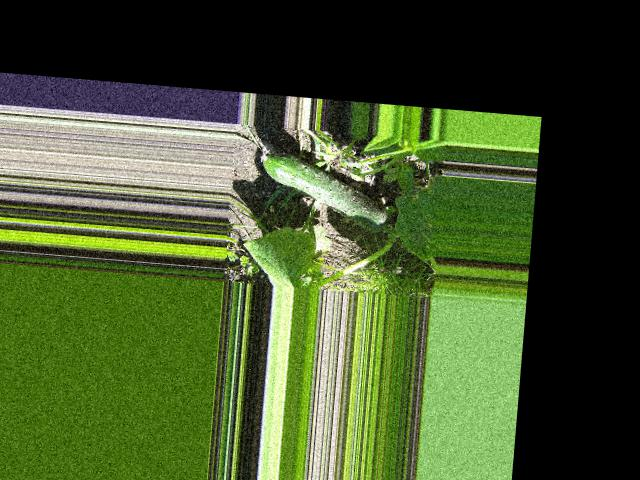cucumber: (256, 150, 394, 234)
